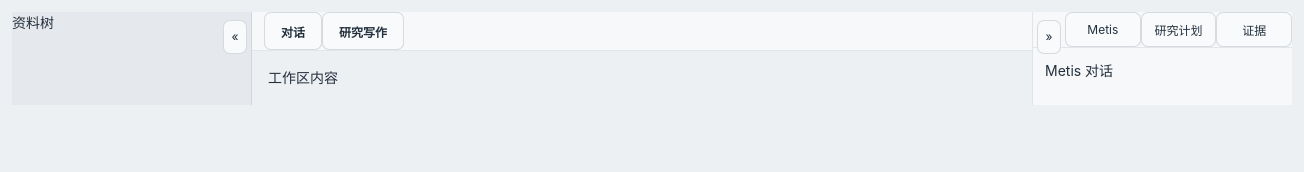
METIS-501 ProjectShell — collapse behavior › reflects aria-expanded state on collapse buttons
Click the button named "收起资料栏" at (235, 37), box [223,20,247,54]
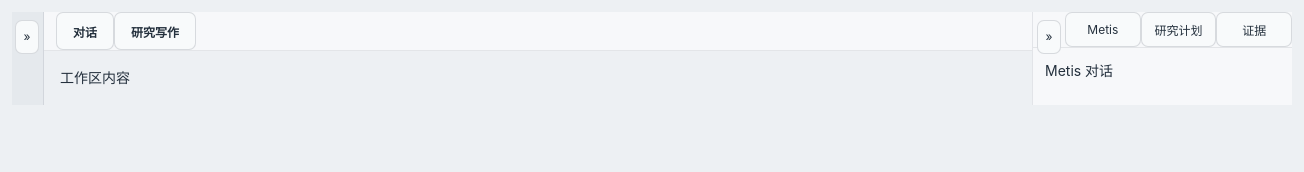
Now the button named "展开资料栏" is collapsed, box [15,20,39,54]
